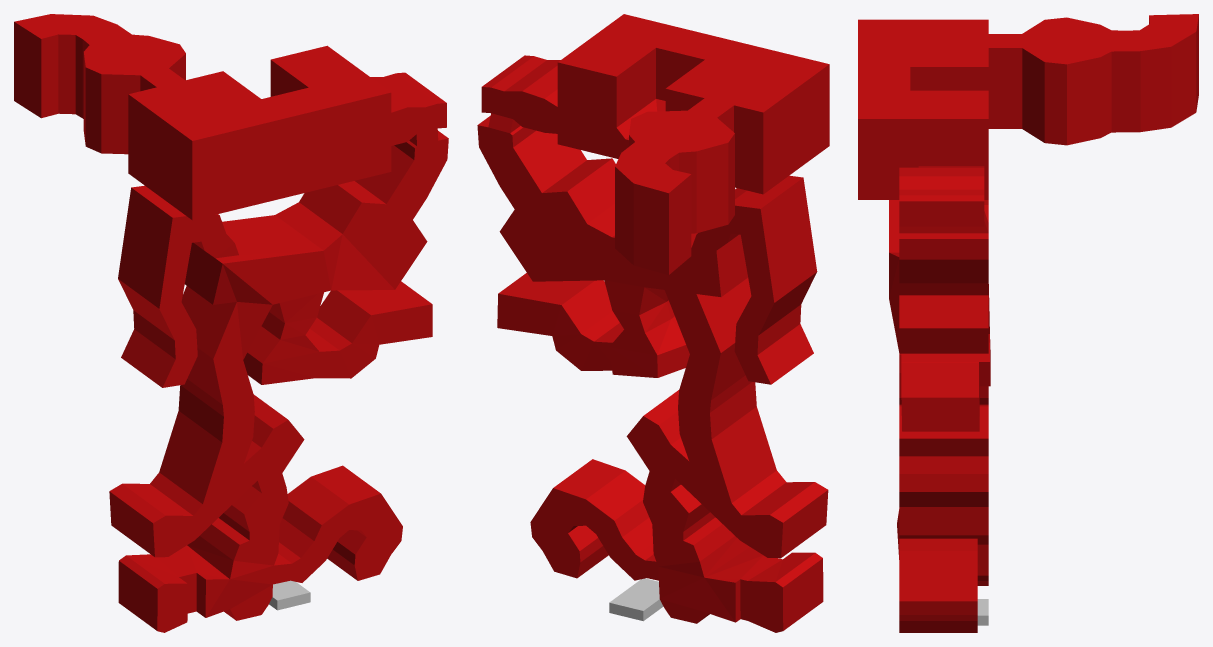
3 renders of one model, left to right at view 1: azimuth 30°, elevation 25°; view 2: azimuth 150°, elevation 25°; view 3: azimuth 270°, elevation 25°, orthographic. The views are drawn at different scales.
Parts seen in each view (by area): view 1: World.MeshShape, DeliveryZone.BoxShape; view 2: World.MeshShape, DeliveryZone.BoxShape; view 3: World.MeshShape.
Boxes of the visible parts, bbox=[...] form: World.MeshShape: bbox=[14, 14, 448, 632]; DeliveryZone.BoxShape: bbox=[269, 580, 310, 610]; World.MeshShape: bbox=[477, 14, 829, 632]; DeliveryZone.BoxShape: bbox=[609, 578, 663, 621]; World.MeshShape: bbox=[858, 14, 1198, 632].
Size of the model in its own units: 31.22 by 52.5 by 30.51.
